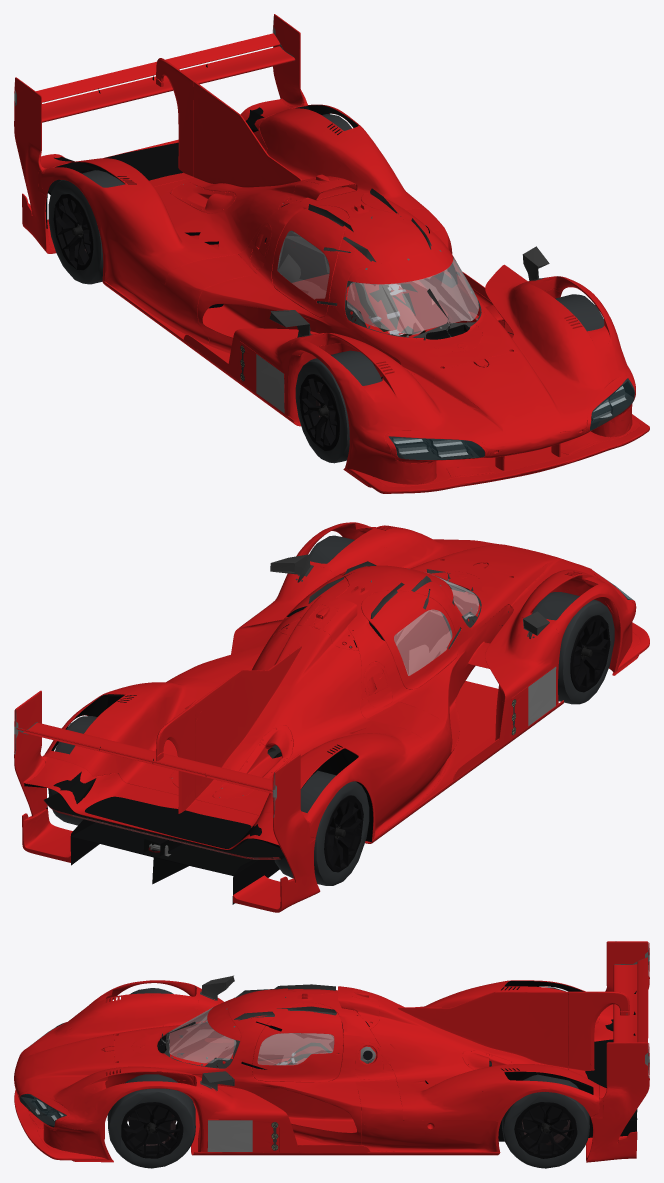
The model's file is porsche-963_versionb.glb.
The picture shows the model from 3 angles, top to bottom: view 1: azimuth 30°, elevation 25°; view 2: azimuth 150°, elevation 25°; view 3: azimuth 270°, elevation 25°; orthographic projection. The views are drawn at different scales.
Visible parts, largest first — view 1: BODY, GLASS, WHEEL_RF, WHEEL_RR, WHEEL_LF; view 2: BODY, WHEEL_RF, WHEEL_RR, GLASS, WHEEL_LF, WHEEL_LR; view 3: BODY, WHEEL_LF, WHEEL_LR, GLASS.
Boxes of the visible parts, bbox=[...] form: BODY: bbox=[14, 14, 649, 493]; GLASS: bbox=[14, 16, 634, 459]; WHEEL_RF: bbox=[295, 350, 381, 463]; WHEEL_RR: bbox=[48, 170, 124, 284]; WHEEL_LF: bbox=[555, 294, 604, 331]; BODY: bbox=[14, 522, 649, 912]; WHEEL_RF: bbox=[532, 592, 614, 704]; WHEEL_RR: bbox=[274, 770, 369, 885]; GLASS: bbox=[14, 574, 632, 859]; WHEEL_LF: bbox=[309, 535, 354, 563]; WHEEL_LR: bbox=[48, 716, 97, 825]; BODY: bbox=[14, 941, 649, 1162]; WHEEL_LF: bbox=[107, 1074, 195, 1168]; WHEEL_LR: bbox=[501, 1074, 589, 1168]; GLASS: bbox=[20, 942, 649, 1126].
Size of the model in its own units: 1.99 by 1.09 by 5.
